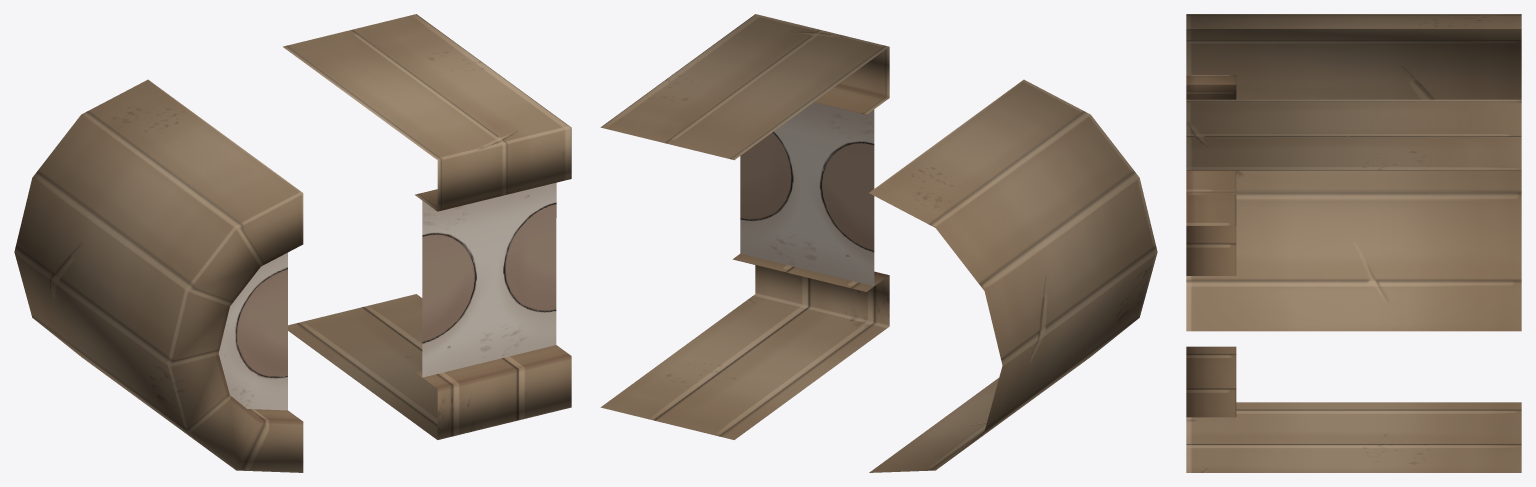
The model's file is Cinta_Comp.fbx.
The picture shows the model from 3 angles, left to right: view 1: azimuth 30°, elevation 25°; view 2: azimuth 150°, elevation 25°; view 3: azimuth 270°, elevation 25°; orthographic projection. The views are drawn at different scales.
Parts seen in each view (by area): view 1: Extremo, Centro; view 2: Centro, Extremo; view 3: Extremo, Centro.
Part boxes in pixels (<box>): Extremo: <box>14,79,303,472</box>; Centro: <box>283,14,571,439</box>; Centro: <box>600,14,889,439</box>; Extremo: <box>869,79,1157,472</box>; Extremo: <box>1186,14,1521,331</box>; Centro: <box>1186,99,1521,472</box>.
Bounding box in the file's own units: 299 × 199 × 200.
1 material, 1 textured.
